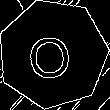O_N: (29, 27, 77, 81)
